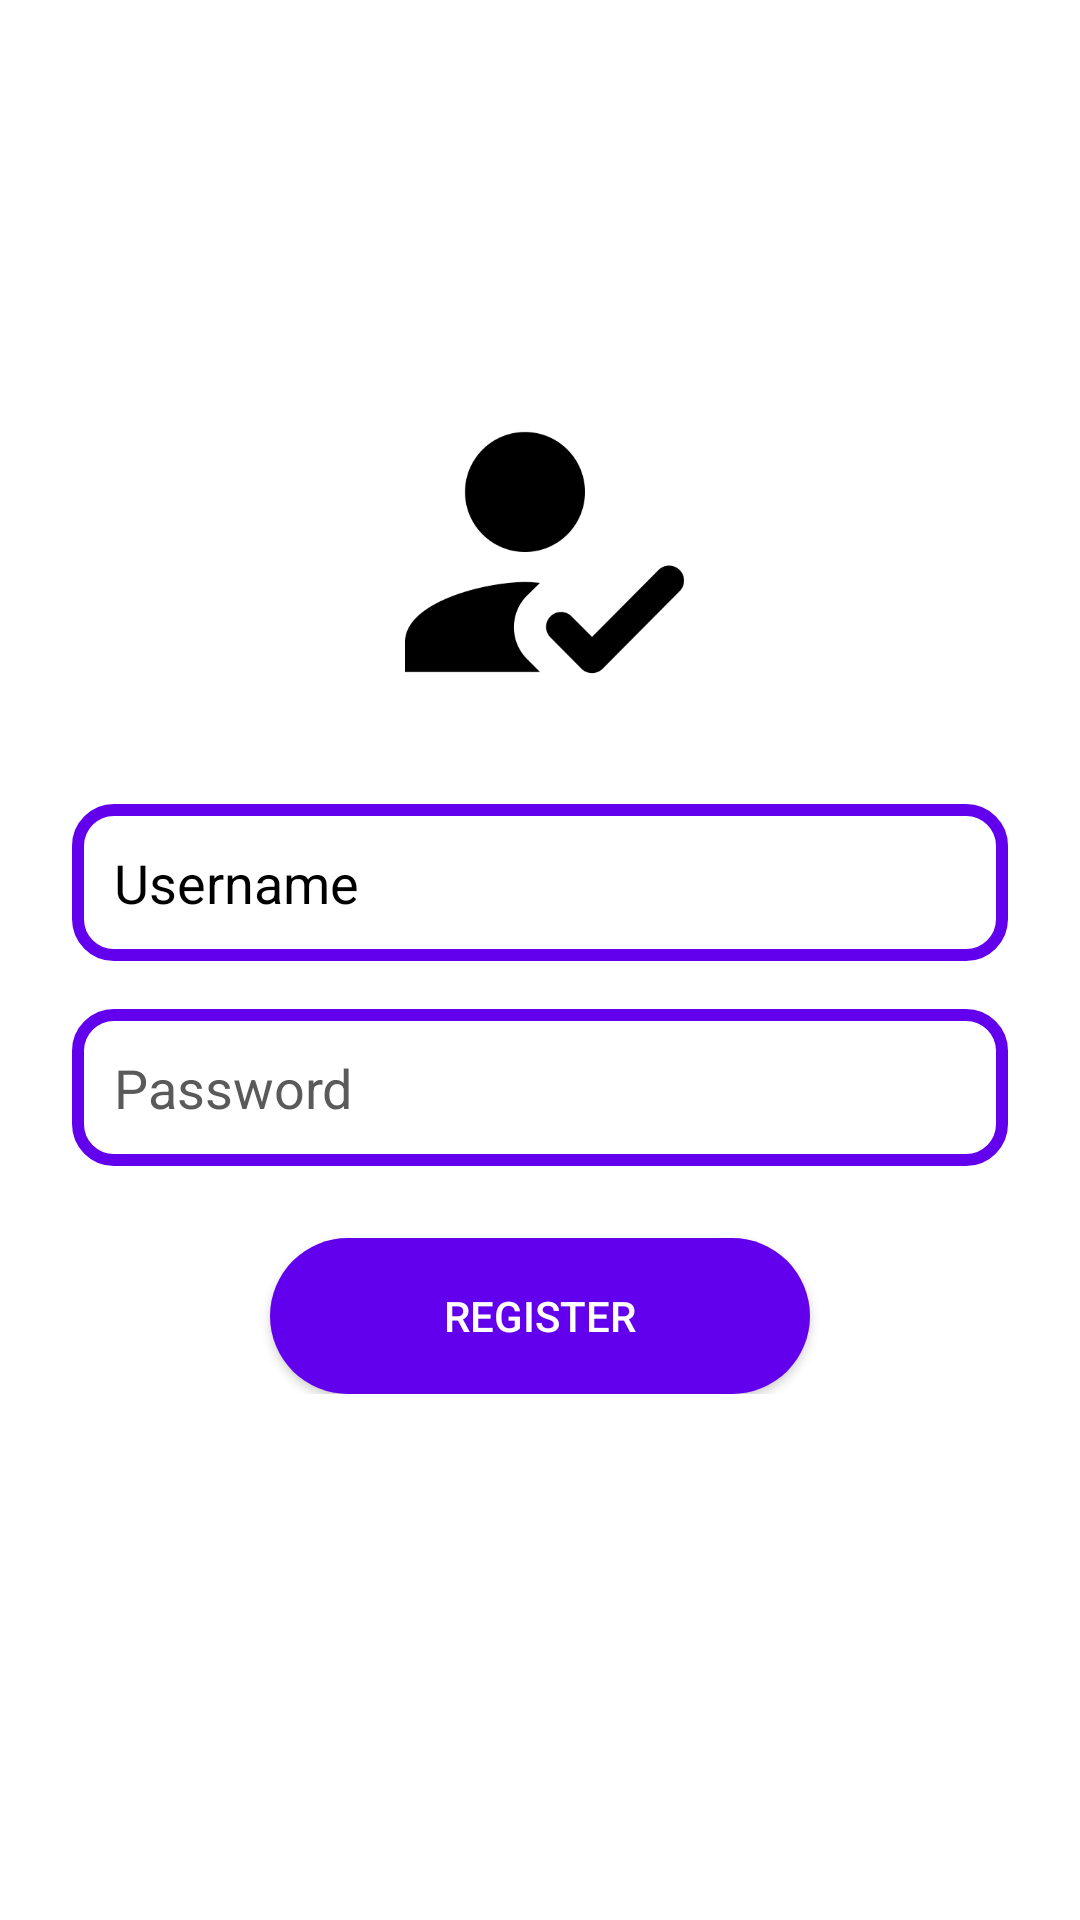

Icons on this 1080 × 1920 Android screen, each with the point to tap as (x=x, y=y):
register: (x=544, y=553)
